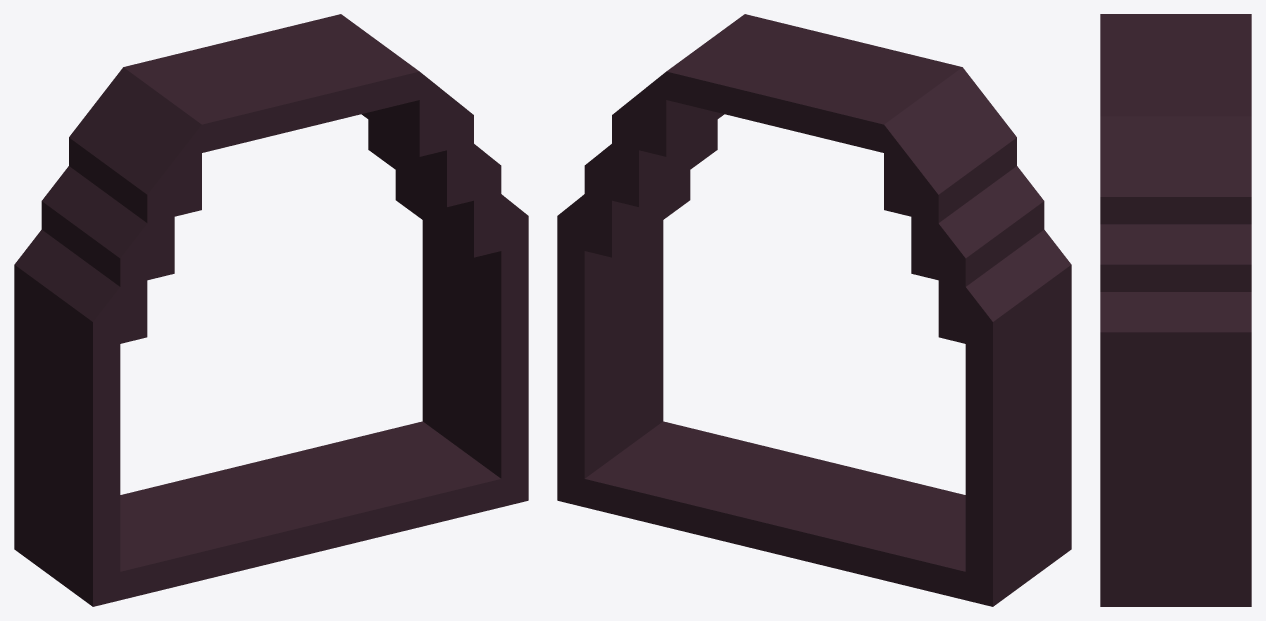
Rendered from DoorCover.dae.
3 renders of one model, left to right at view 1: azimuth 30°, elevation 25°; view 2: azimuth 150°, elevation 25°; view 3: azimuth 270°, elevation 25°, orthographic. The views are drawn at different scales.
Visible parts, largest first — view 1: generated; view 2: generated; view 3: generated.
Boxes of the visible parts, x1,y1,x2,y2 form: generated: (14,14,528,606); generated: (557,14,1071,606); generated: (1100,14,1251,606).
Bounding box in the file's own units: 16 × 16 × 5.
1 material, 1 textured.
